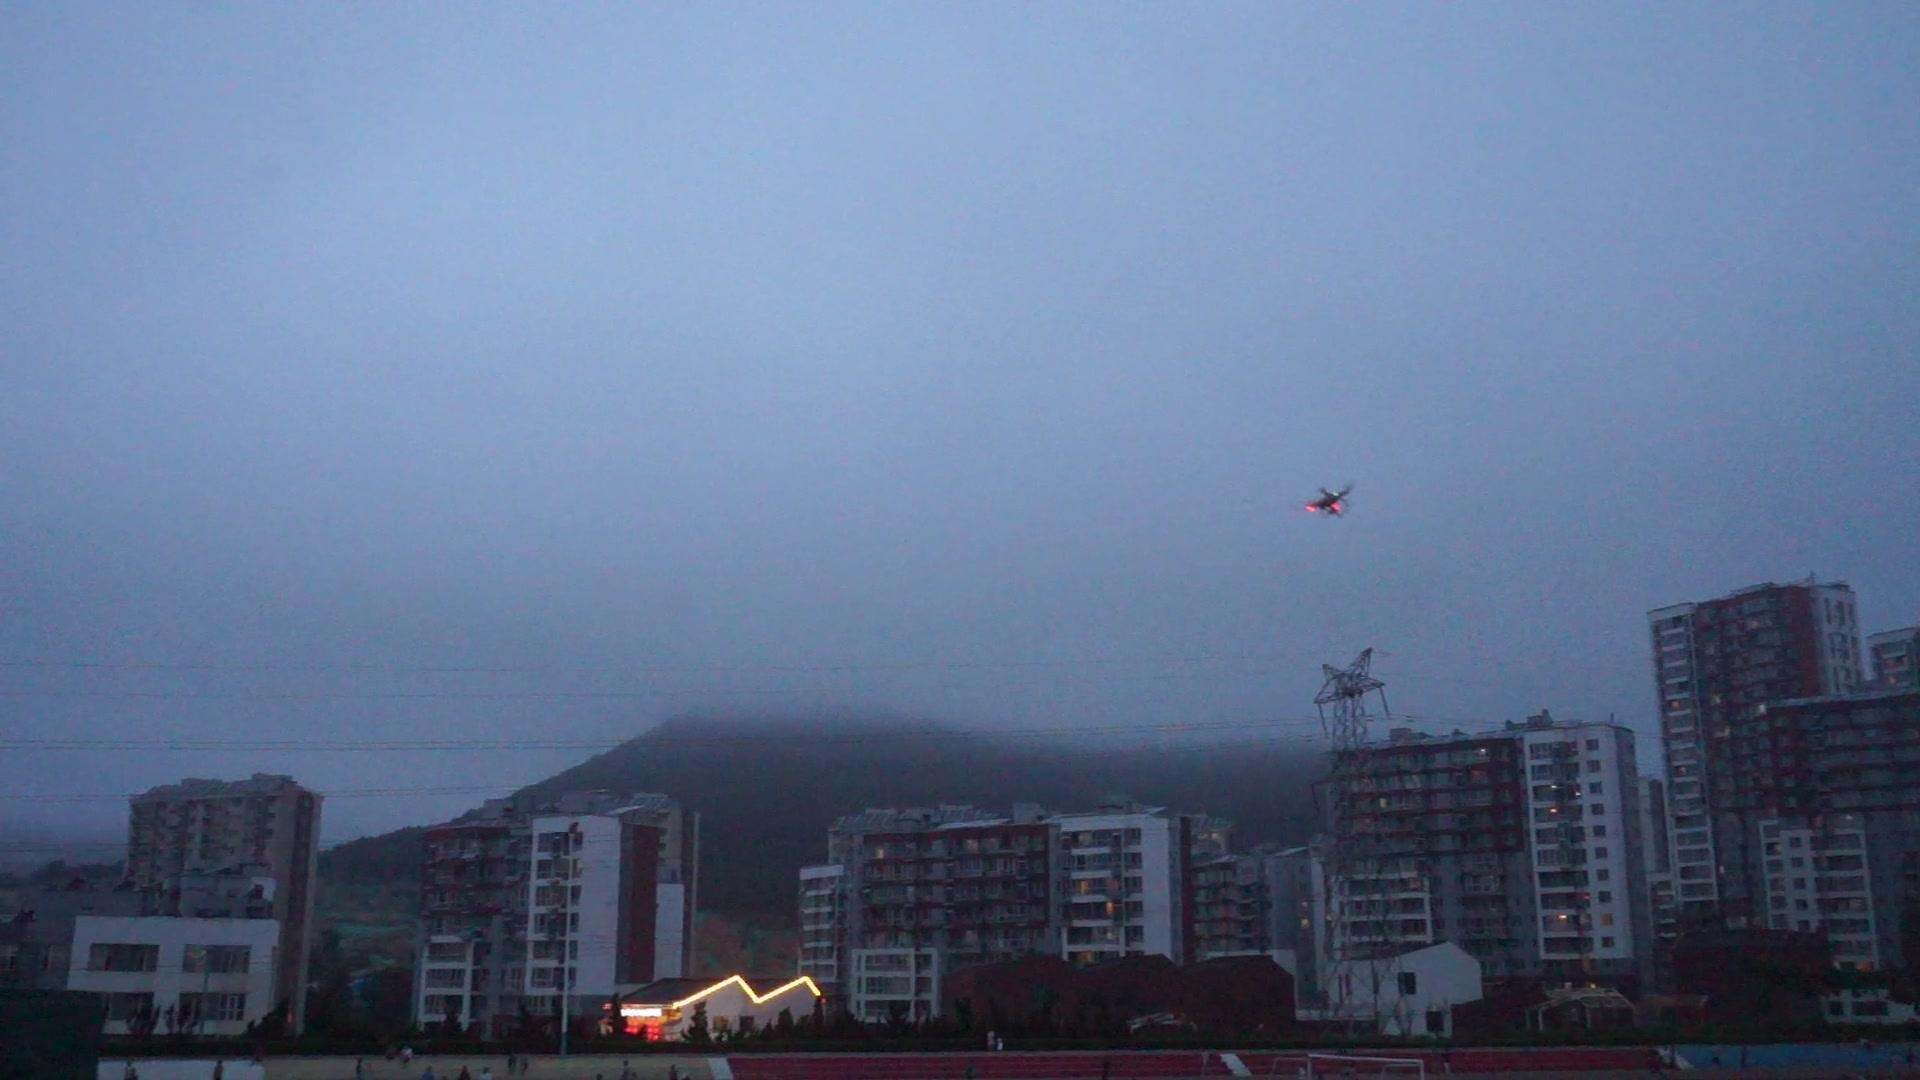UAV: (1305, 487, 1353, 520)
